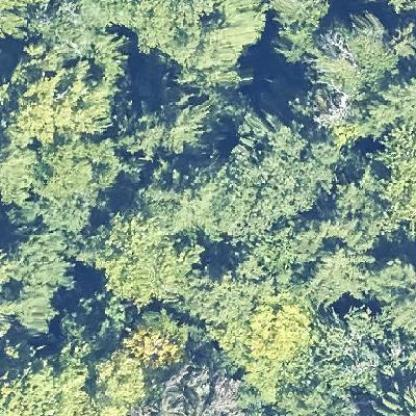tree-top: (219, 290, 312, 403), (94, 209, 198, 308), (308, 301, 398, 395), (303, 10, 394, 101), (13, 64, 109, 146), (374, 116, 415, 244), (118, 307, 196, 366), (306, 240, 370, 308), (367, 247, 415, 336), (86, 346, 153, 402)
